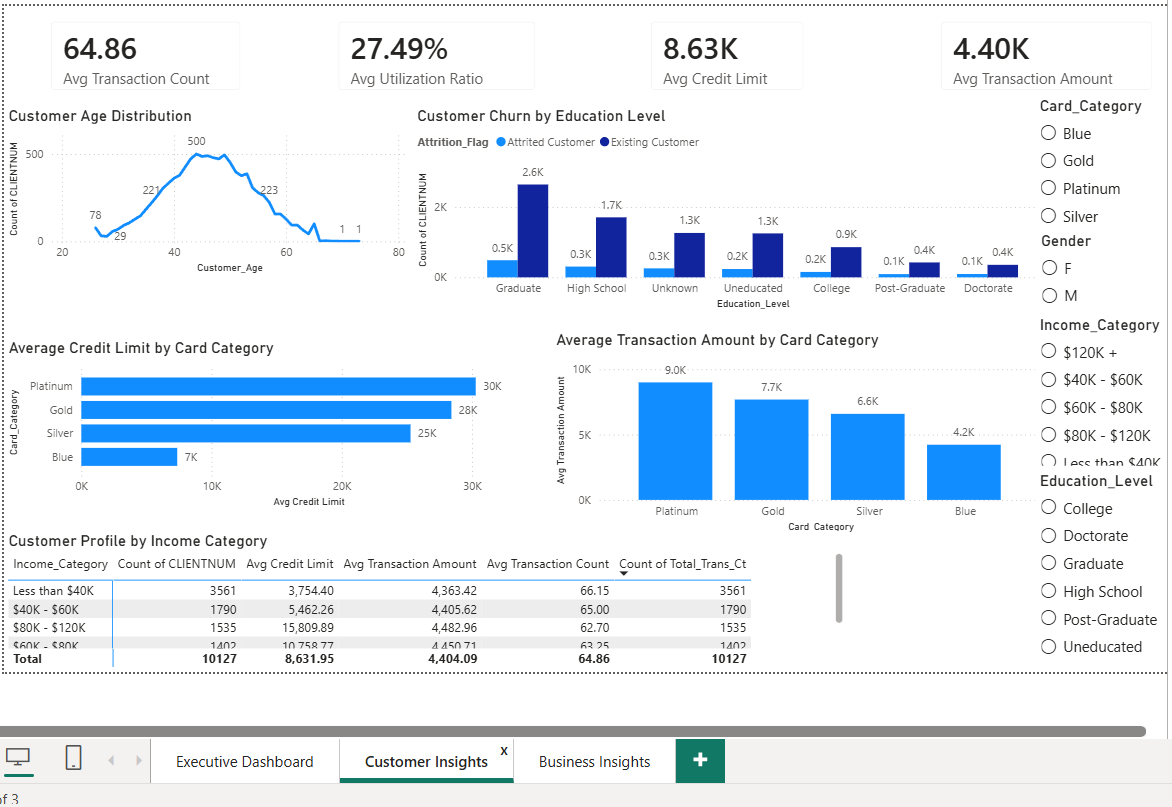

Layout of this report page (visuals, bound fields, positions):
{"tool":"powerbi","page":{"name":"Customer Insights ","canvas":[1280,720],"ordinal":1},"visuals":[{"type":"cardVisual","fields":{"Data":["credit_card_churn bankchurners.Avg Utilization Ratio"]},"box":[344.3,0,247.2,108.7],"z":0},{"type":"cardVisual","fields":{"Data":["credit_card_churn bankchurners.Avg Transaction Count"]},"box":[33.7,0,239.5,108.7],"z":1000},{"type":"cardVisual","fields":{"Data":["credit_card_churn bankchurners.Avg Transaction Amount"]},"box":[995.5,0,262.8,108.7],"z":2000},{"type":"cardVisual","fields":{"Data":["credit_card_churn bankchurners.Avg Credit Limit"]},"box":[682.2,0,199.4,108.7],"z":3000},{"type":"lineChart","title":"Customer Age Distribution","fields":{"Category":["credit_card_churn bankchurners.Customer_Age"],"Y":["CountNonNull(credit_card_churn bankchurners.CLIENTNUM)"]},"box":[0,108.7,441.4,186.4],"z":4000},{"type":"clusteredColumnChart","title":"Customer Churn by Education Level","fields":{"Category":["credit_card_churn bankchurners.Education_Level"],"Y":["CountNonNull(credit_card_churn bankchurners.CLIENTNUM)"],"Series":["credit_card_churn bankchurners.Attrition_Flag"]},"box":[441.4,108.7,695.1,225.2],"z":5000},{"type":"clusteredBarChart","title":"Average Credit Limit by Card Category","fields":{"Category":["credit_card_churn bankchurners.Card_Category"],"Y":["credit_card_churn bankchurners.Avg Credit Limit"]},"box":[0,359.9,591.6,187.7],"z":6000},{"type":"clusteredColumnChart","title":"Average Transaction Amount by Card Category","fields":{"Category":["credit_card_churn bankchurners.Card_Category"],"Y":["credit_card_churn bankchurners.Avg Transaction Amount"]},"box":[591.6,349.5,535.9,223.9],"z":7000},{"type":"pivotTable","title":"Customer Profile by Income Category","fields":{"Rows":["credit_card_churn bankchurners.Income_Category"],"Values":["CountNonNull(credit_card_churn bankchurners.CLIENTNUM)","credit_card_churn bankchurners.Avg Credit Limit","credit_card_churn bankchurners.Avg Transaction Amount","credit_card_churn bankchurners.Avg Transaction Count","CountNonNull(credit_card_churn bankchurners.Total_Trans_Ct)"]},"box":[0,567.5,912.5,152.5],"z":8000},{"type":"listSlicer","fields":{"Values":["credit_card_churn bankchurners.Card_Category"]},"box":[1114.9,97.3,164.4,150.2],"z":9000},{"type":"listSlicer","fields":{"Values":["credit_card_churn bankchurners.Gender"]},"box":[1116.2,243.2,137.2,90.6],"z":10000},{"type":"listSlicer","fields":{"Values":["credit_card_churn bankchurners.Income_Category"]},"box":[1114.9,333.8,164.4,168.3],"z":11000},{"type":"listSlicer","fields":{"Values":["credit_card_churn bankchurners.Education_Level"]},"box":[1114.9,502.7,164.4,203.2],"z":12000}]}

Visuals, with their boxes on the page's 1280x720 design canvas (x1, y1, x2, y2). These are canvas units, not pixel positions in the 1172x807 screenshot, which may show the page scaled, cropped or inside an application window:
cardVisual - credit_card_churn bankchurners.Avg Utilization Ratio: [left=344, top=0, right=592, bottom=109]
cardVisual - credit_card_churn bankchurners.Avg Transaction Count: [left=34, top=0, right=273, bottom=109]
cardVisual - credit_card_churn bankchurners.Avg Transaction Amount: [left=996, top=0, right=1258, bottom=109]
cardVisual - credit_card_churn bankchurners.Avg Credit Limit: [left=682, top=0, right=882, bottom=109]
"Customer Age Distribution" lineChart: [left=0, top=109, right=441, bottom=295]
"Customer Churn by Education Level" clusteredColumnChart: [left=441, top=109, right=1136, bottom=334]
"Average Credit Limit by Card Category" clusteredBarChart: [left=0, top=360, right=592, bottom=548]
"Average Transaction Amount by Card Category" clusteredColumnChart: [left=592, top=350, right=1128, bottom=573]
"Customer Profile by Income Category" pivotTable: [left=0, top=568, right=912, bottom=720]
listSlicer - credit_card_churn bankchurners.Card_Category: [left=1115, top=97, right=1279, bottom=248]
listSlicer - credit_card_churn bankchurners.Gender: [left=1116, top=243, right=1253, bottom=334]
listSlicer - credit_card_churn bankchurners.Income_Category: [left=1115, top=334, right=1279, bottom=502]
listSlicer - credit_card_churn bankchurners.Education_Level: [left=1115, top=503, right=1279, bottom=706]
